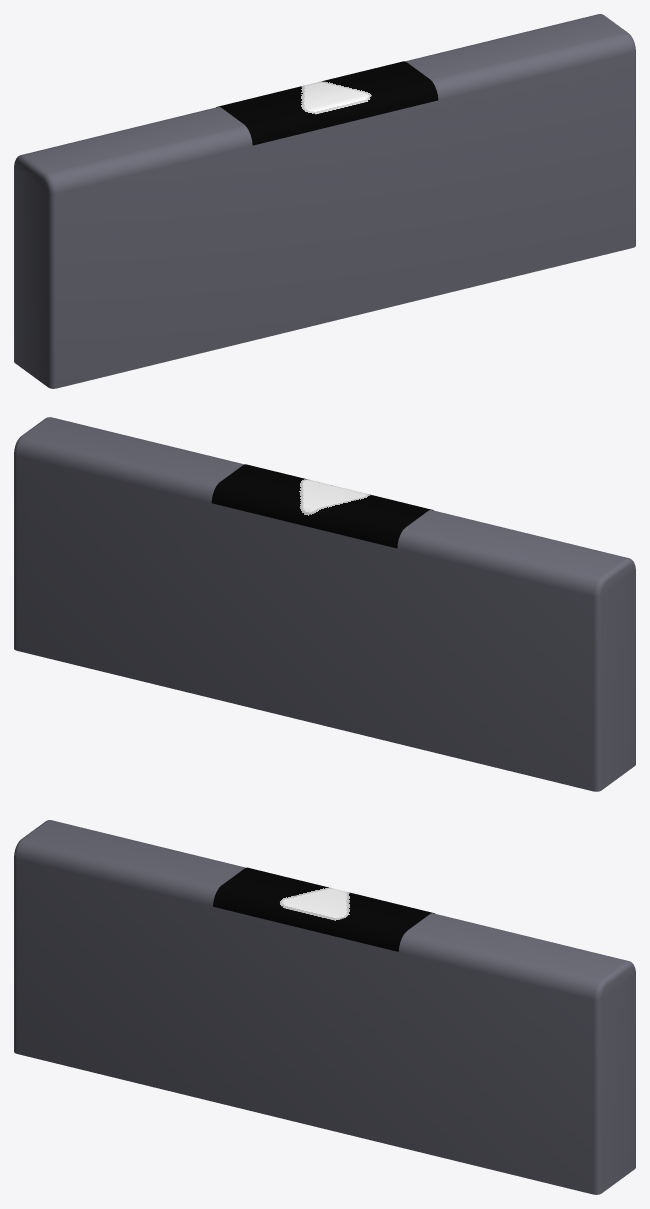
Rendered from SM_Grinder_3X_01.fbx.
3 renders of one model, top to bottom at view 1: azimuth 30°, elevation 25°; view 2: azimuth 150°, elevation 25°; view 3: azimuth 330°, elevation 25°, orthographic.
Visible parts, largest first — view 1: SM_Grinder_3X_01; view 2: SM_Grinder_3X_01; view 3: SM_Grinder_3X_01.
Part boxes in pixels (left/top/right/bottom): SM_Grinder_3X_01: left=14, top=14, right=635, bottom=388; SM_Grinder_3X_01: left=14, top=417, right=635, bottom=791; SM_Grinder_3X_01: left=14, top=820, right=635, bottom=1194.
Bounding box in the file's own units: 300 × 103 × 35.1.
